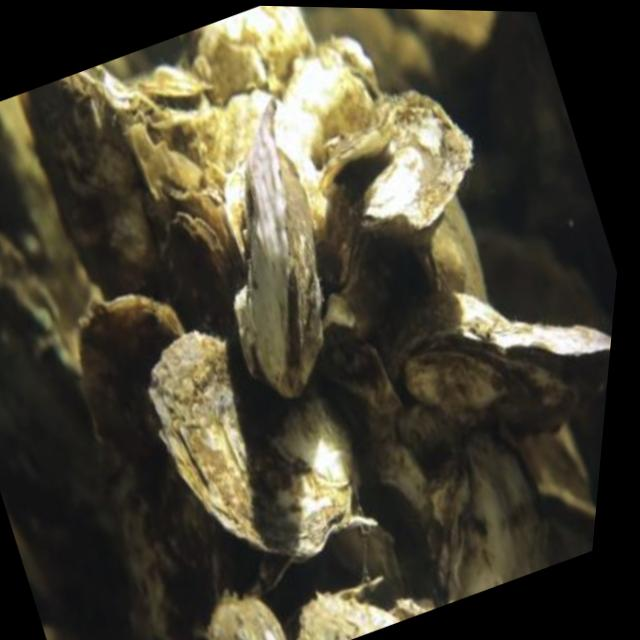Oyster-Closed: (387, 290, 611, 441), (235, 107, 321, 398), (443, 429, 548, 602), (171, 213, 232, 304)
Oyster-Indeterminate: (147, 333, 359, 545), (30, 74, 164, 300), (77, 294, 184, 454), (361, 94, 471, 238), (320, 88, 421, 194), (411, 199, 487, 298), (538, 482, 596, 565), (301, 595, 401, 640), (226, 164, 253, 260)
